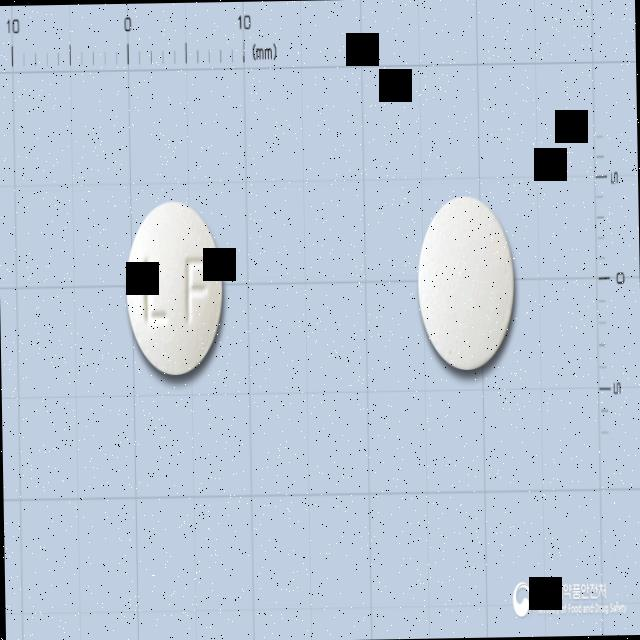Levofloxacin Tab- Withus: (124, 199, 224, 377)
